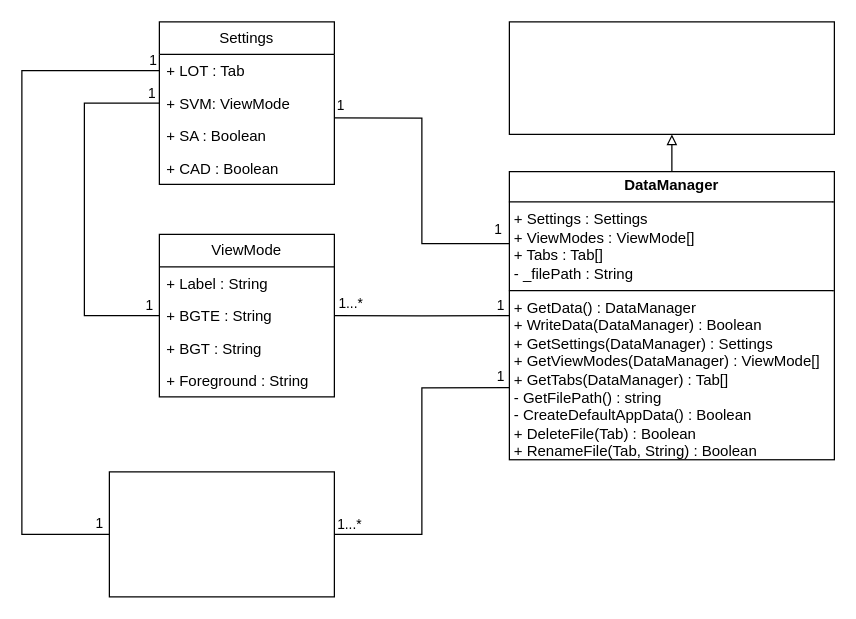
Some shapes in this 856 by 619 pixel diagram are drawn without their labels. Here are the shapes that lost their labels. From the top down, the centre of each, then its label:
the point at 671,77: BaseViewModel + OnPropertyChanged() : void + ShowErrorMessage() : void
the point at 221,534: Tab + FilePath : String + Content : String + MD : DateOnly
